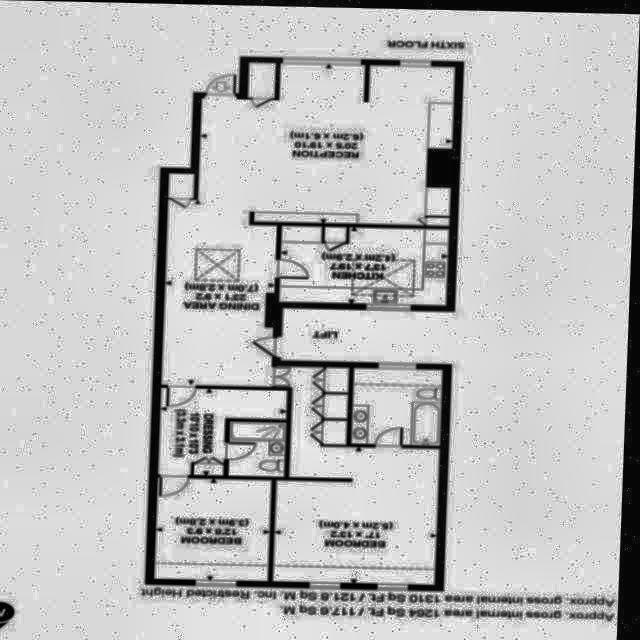room: (170, 61, 455, 228), (271, 366, 444, 582), (165, 223, 287, 385), (277, 225, 450, 303), (160, 473, 275, 580), (163, 383, 290, 476), (355, 366, 445, 448), (227, 420, 289, 476)
